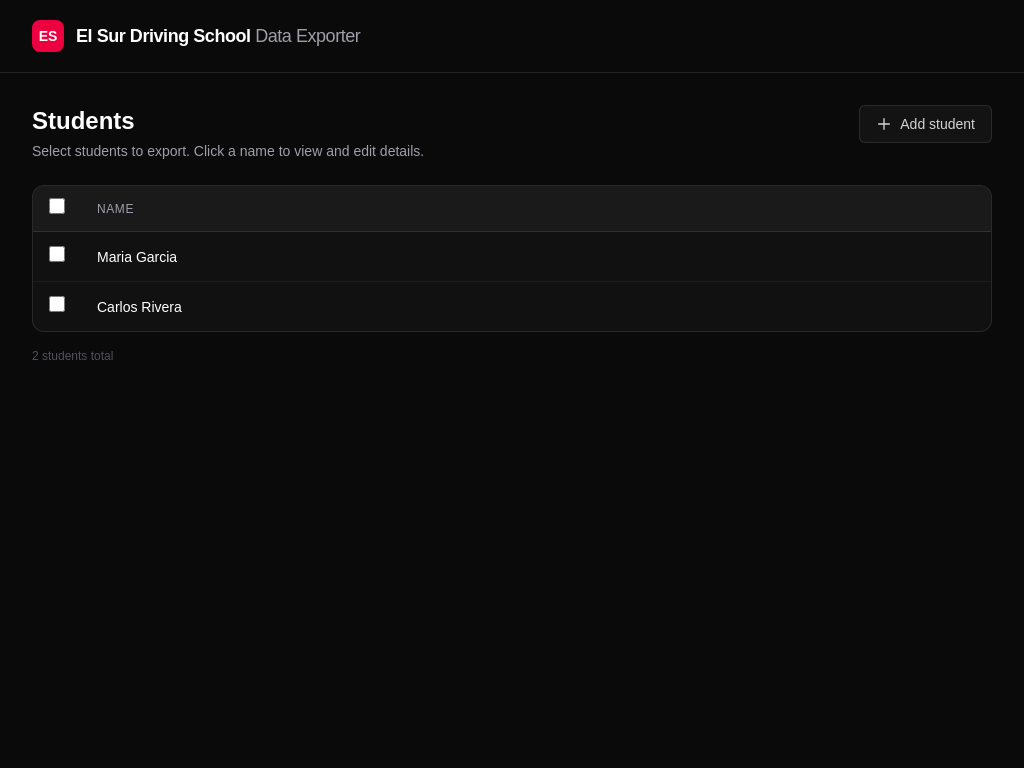
Test: Detail modal › opens when a student name is clicked
The width and height of the screenshot is (1024, 768).
Step 1. Click the text "Maria Garcia" → [137, 256], box x1=81 y1=232 x2=991 y2=282
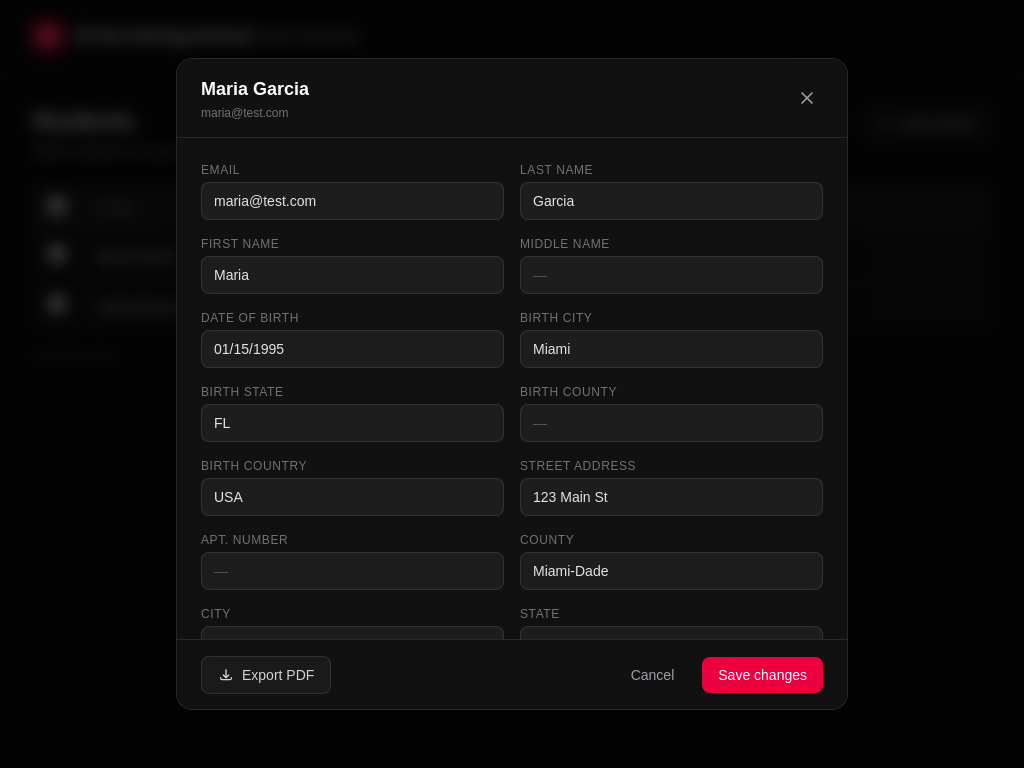
expect the heading "Maria Garcia" is shown: met, box x1=201 y1=75 x2=309 y2=103
